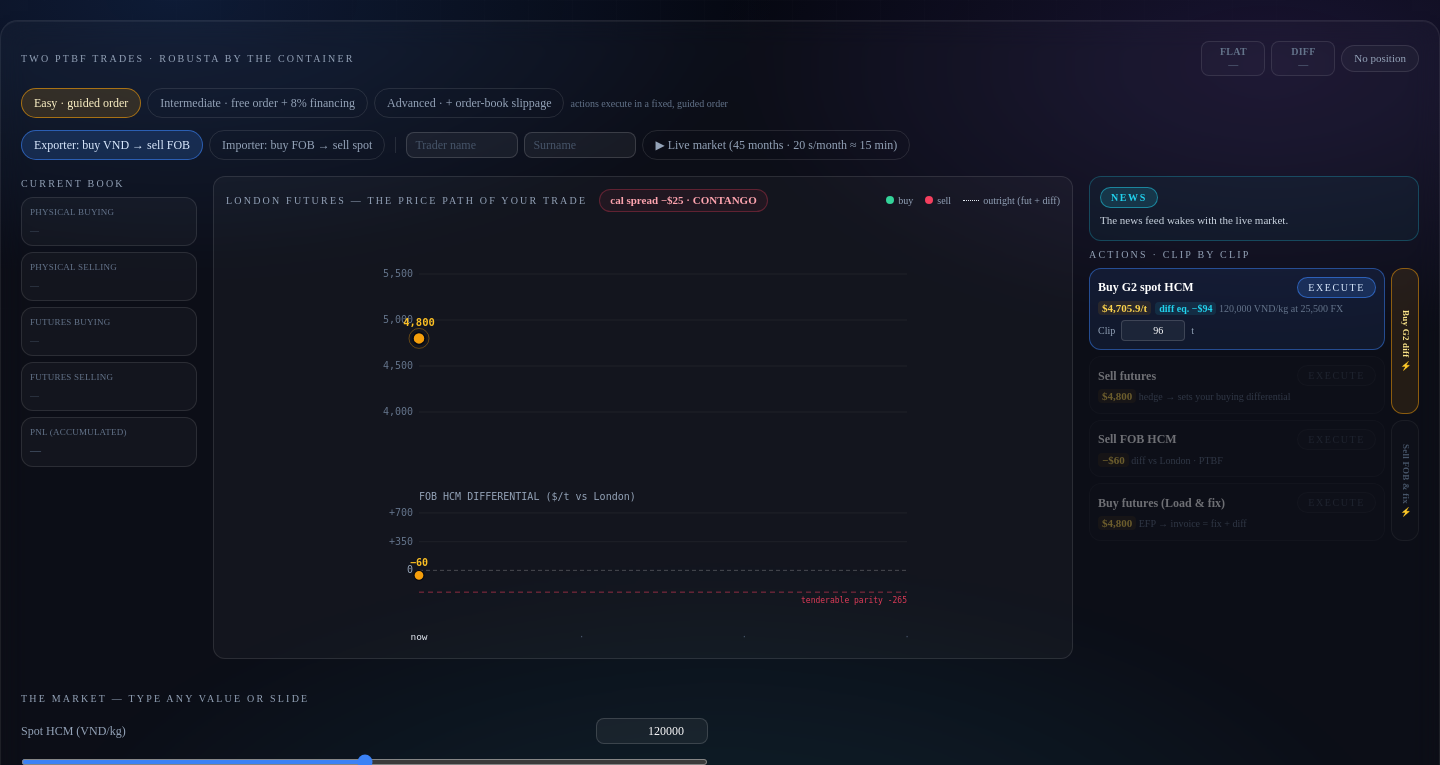
Scenario: PtbfMechanics intermediate level: sell the diff first — and even buy futures outright
This screenshot has width=1440, height=765.
Click the button "Intermediate · free order + 8% financing".
click(258, 103)  # box left=147, top=88, right=368, bottom=118
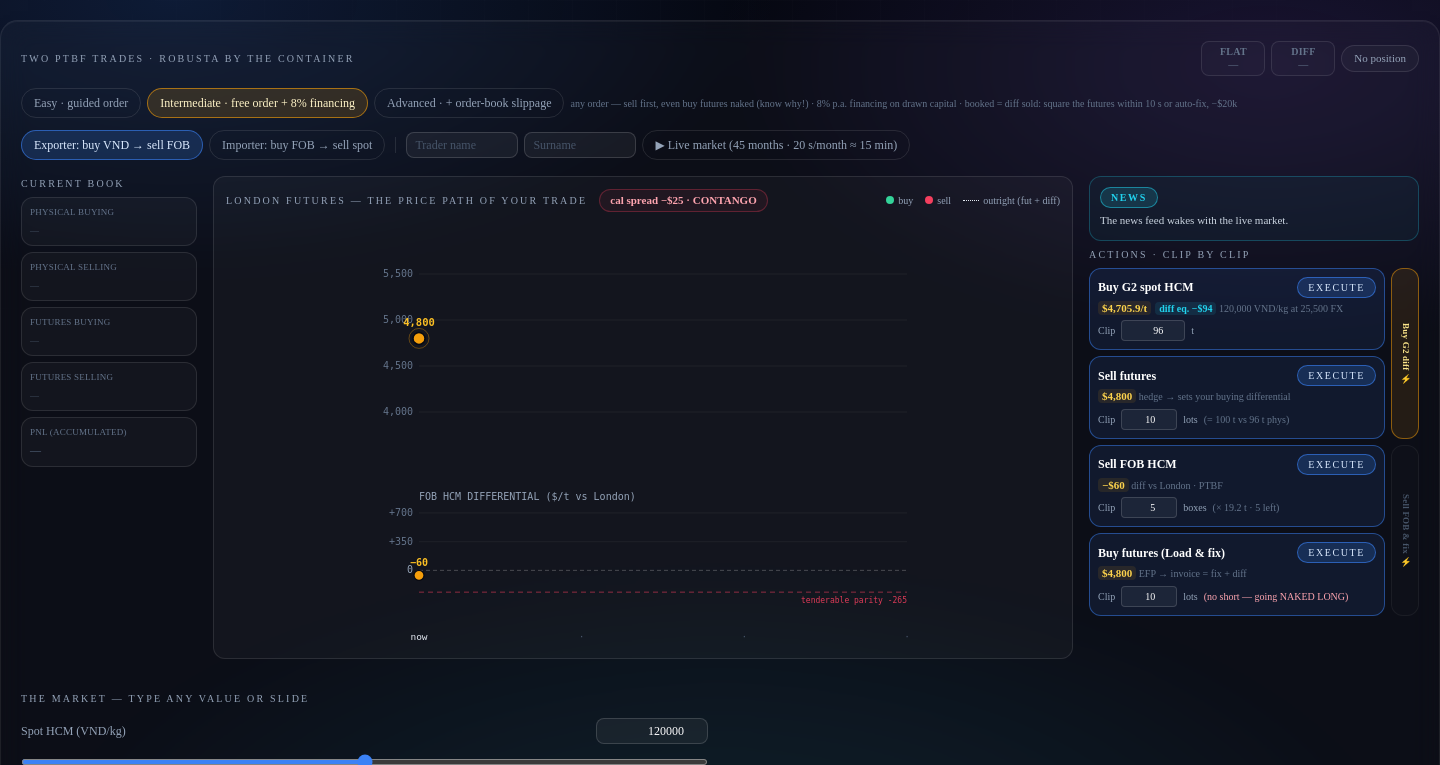
Check: the button with aria-label "Buy futures (Load & fix)" is enabled, box left=1297, top=542, right=1376, bottom=563
Check: the text "no short — going NAKED LONG" is shown, box left=1204, top=591, right=1348, bottom=602
Selling FOB BEFORE buying physical is allowed on this level
Click the button with aria-label "Sell FOB HCM".
click(1337, 464)  # box left=1297, top=454, right=1376, bottom=475
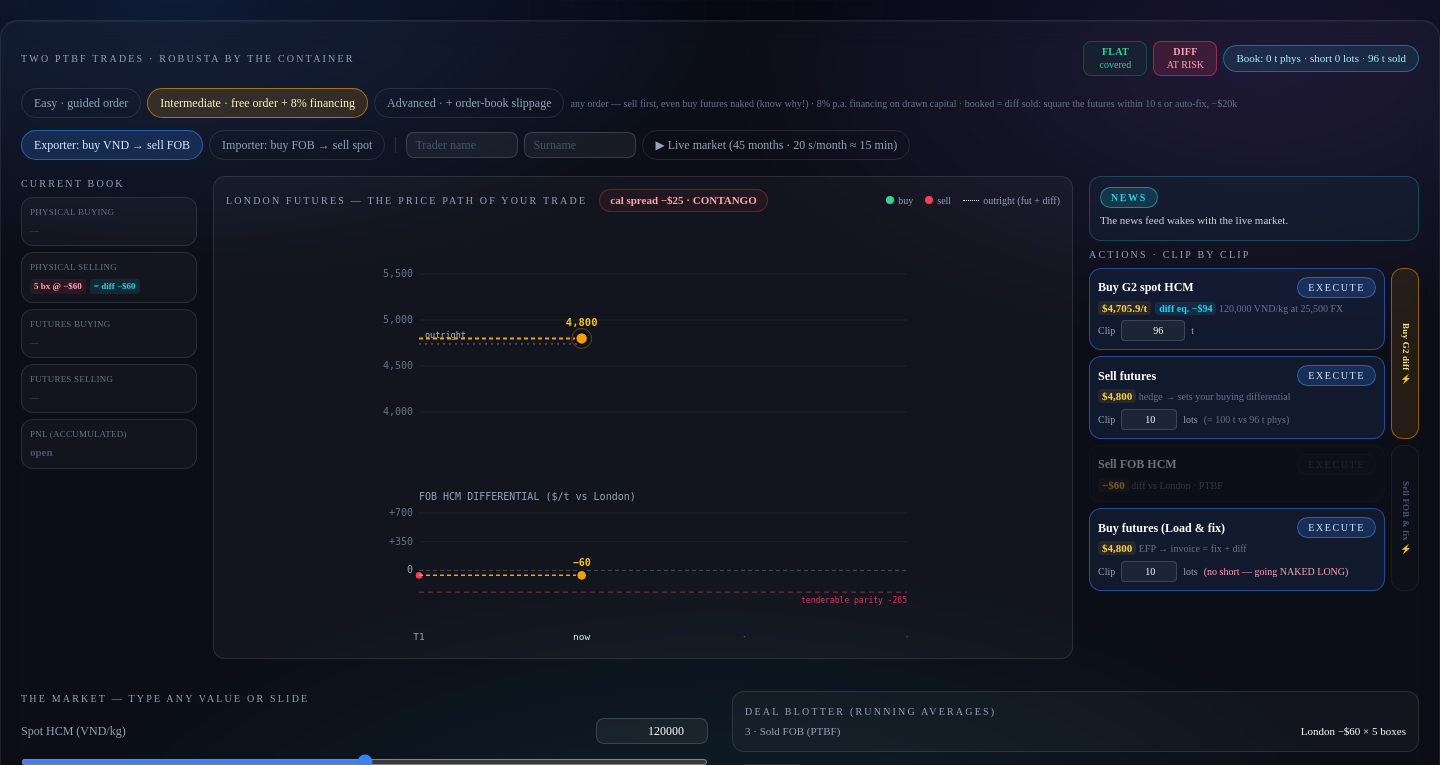
Check: the text "Sold FOB" is shown, box left=745, top=724, right=840, bottom=736
Complete out of order: buy, hedge, fix → same economics as the guided order
Click the button with aria-label "Buy G2 spot HCM".
click(1337, 287)  # box left=1297, top=277, right=1376, bottom=298
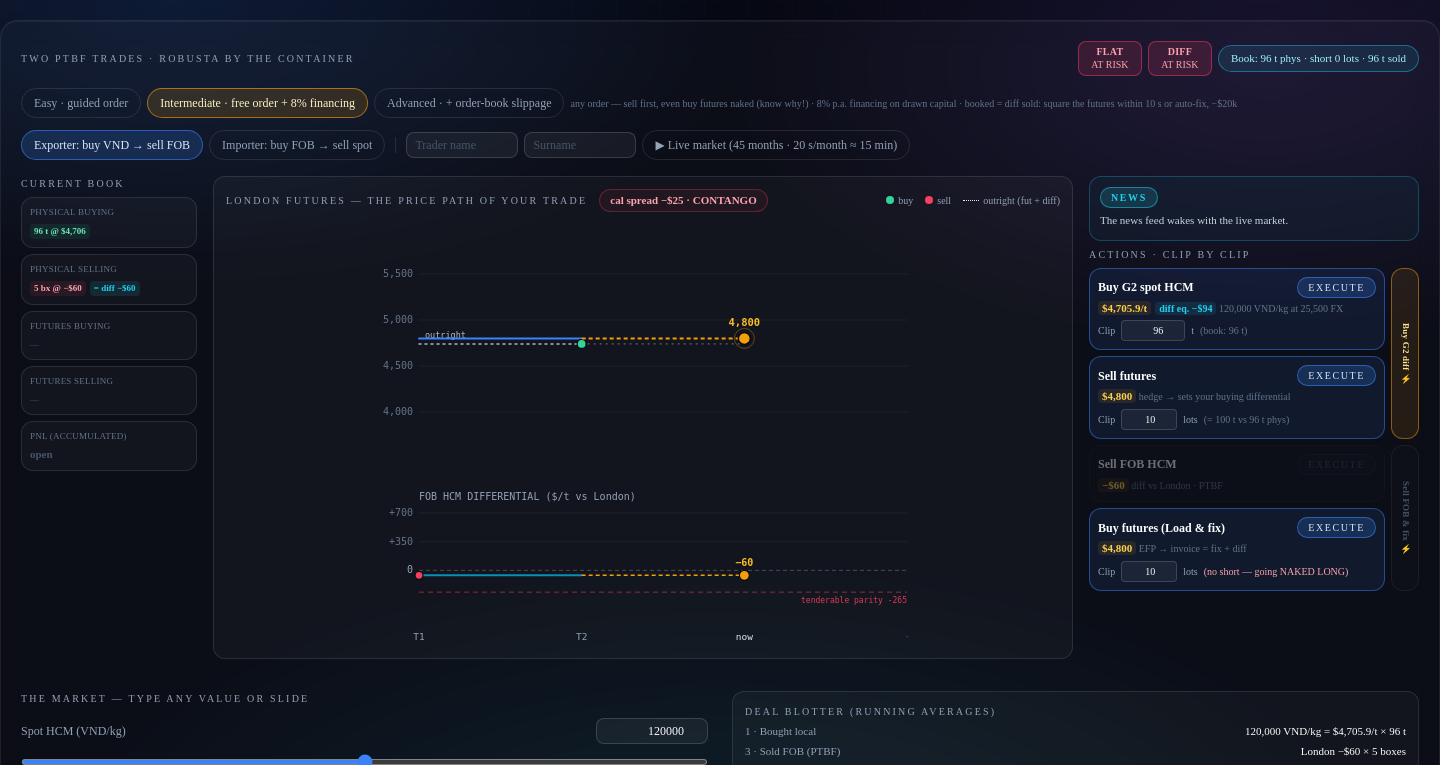
Click the button with aria-label "Sell futures".
click(1337, 376)  # box left=1297, top=365, right=1376, bottom=386
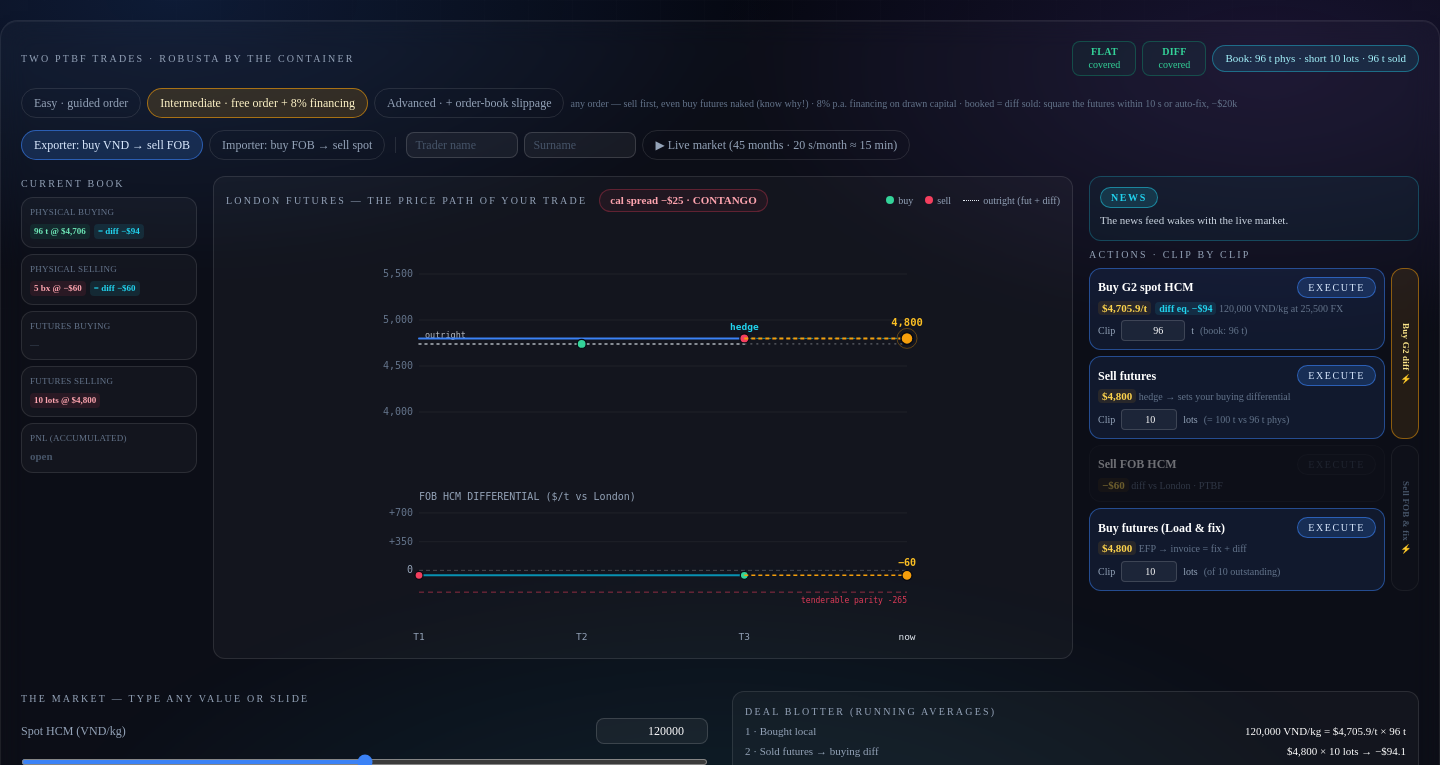
Click the button with aria-label "Buy futures (Load & fix)".
click(1337, 528)  # box left=1297, top=517, right=1376, bottom=538
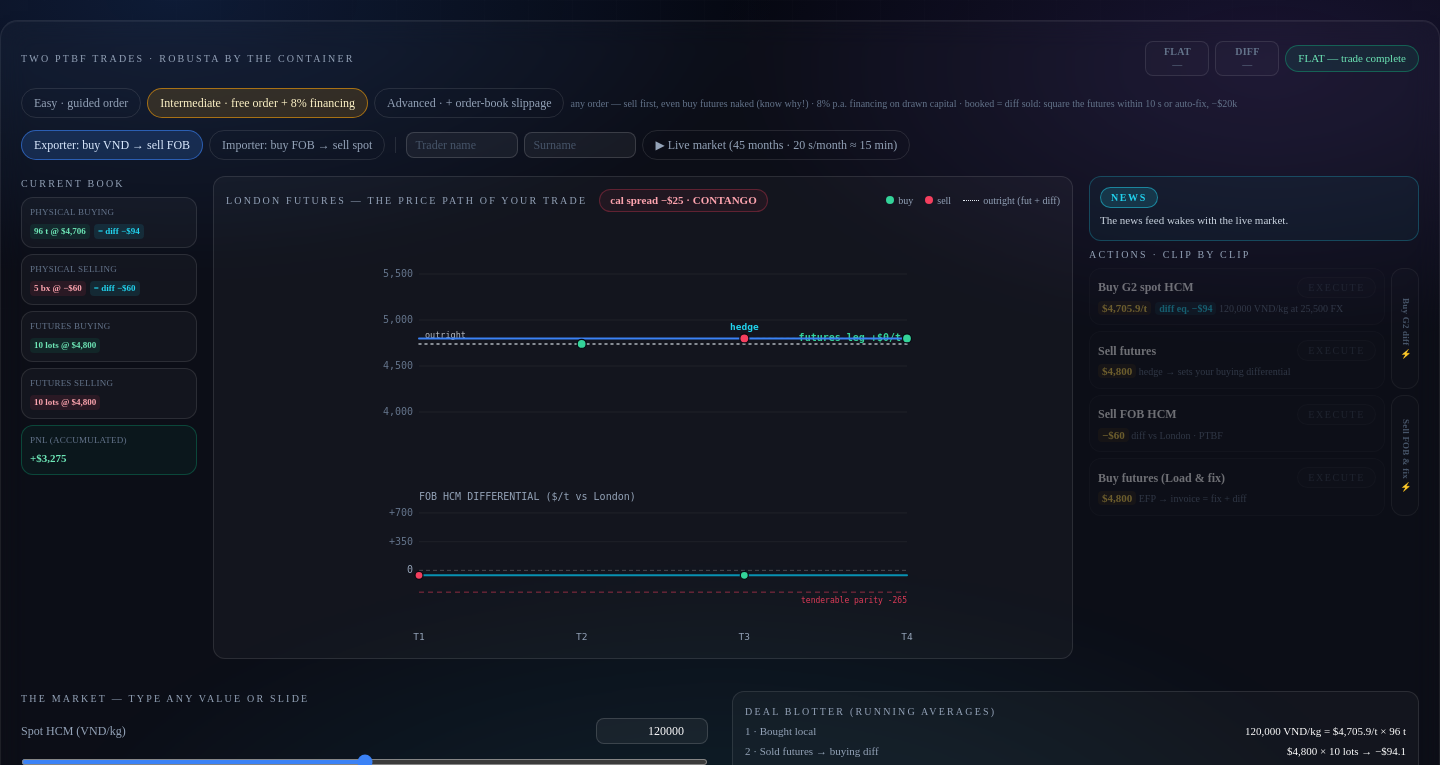
Check: the text "FLAT — trade complete" is shown, box left=1285, top=45, right=1419, bottom=72
Check: the text "+$3,275" is shown, box left=30, top=452, right=66, bottom=464
